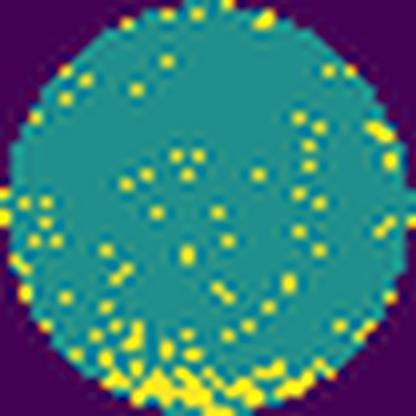Edge-Loc: (122, 360, 236, 415), (250, 343, 338, 404), (201, 357, 271, 406)
